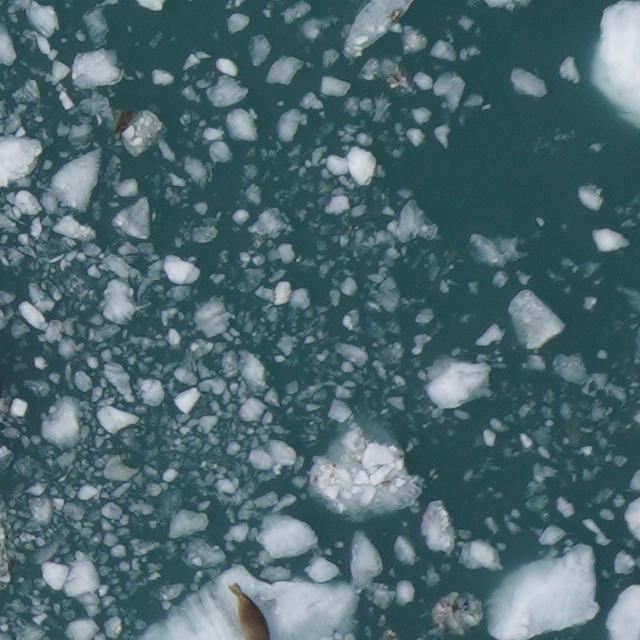seal: (227, 582, 272, 639)
